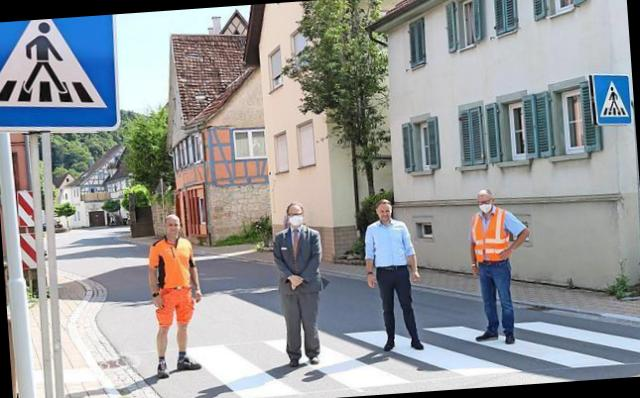crosswalk-sign: (1, 14, 125, 139), (589, 75, 635, 128)
